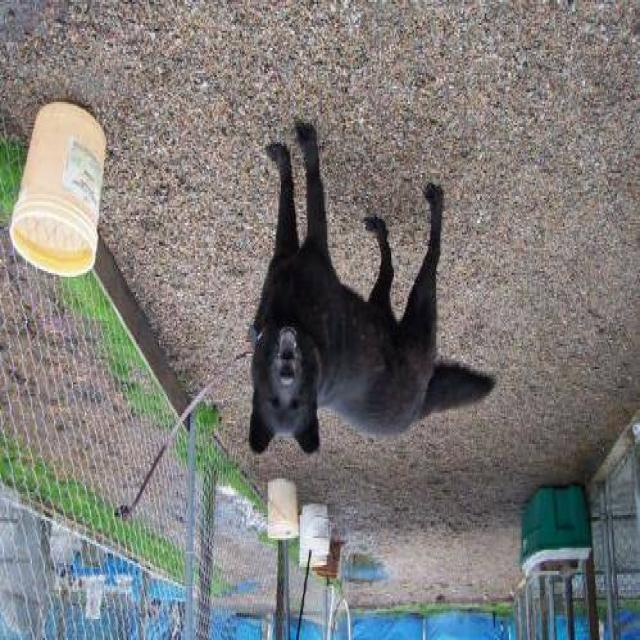dog: (226, 114, 508, 474)
